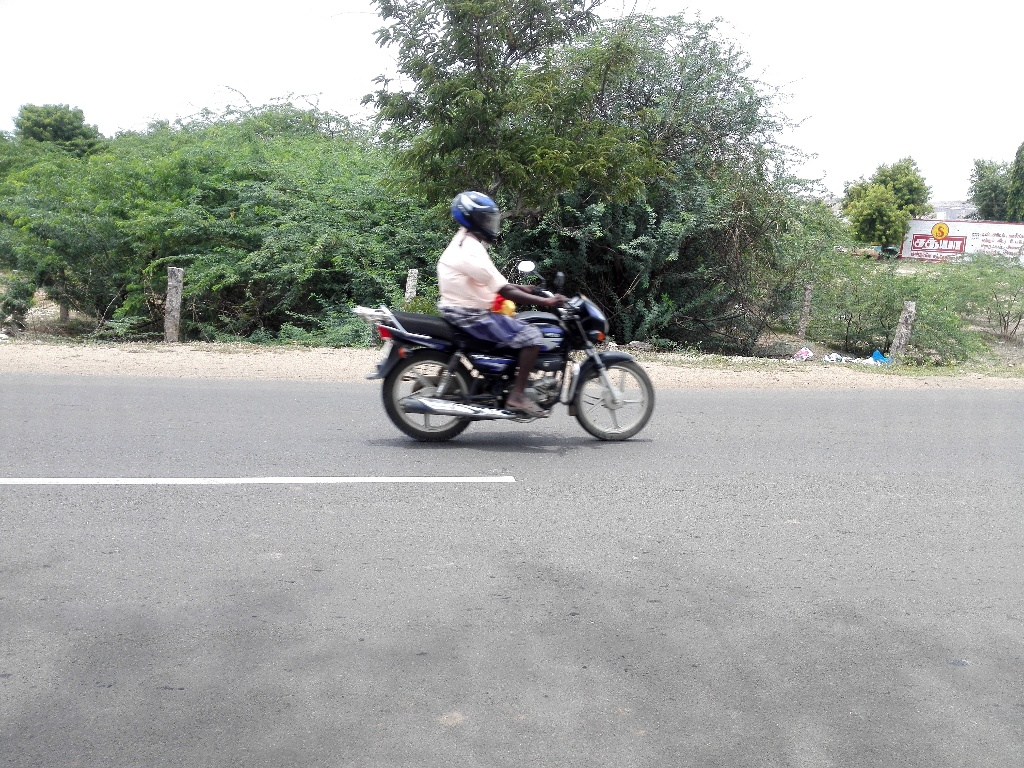biker: (341, 143, 675, 457)
helmet: (442, 173, 520, 252)
